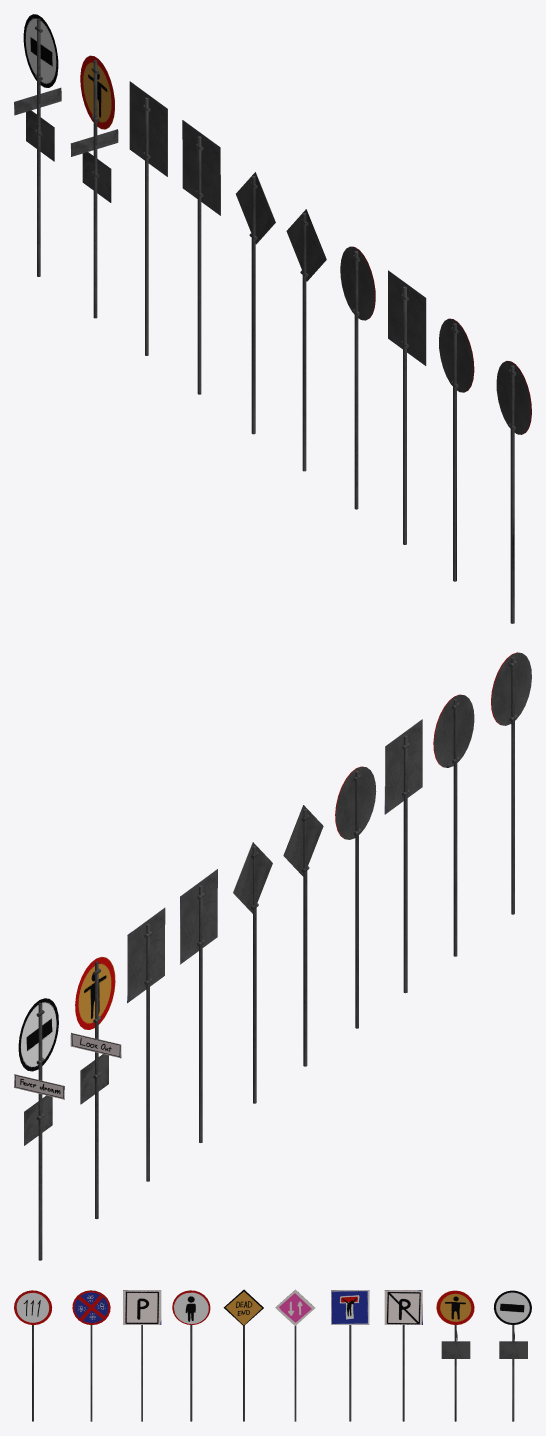
The model's file is signs.fbx.
The picture shows the model from 3 angles, top to bottom: view 1: azimuth 30°, elevation 25°; view 2: azimuth 150°, elevation 25°; view 3: azimuth 270°, elevation 25°; orthographic projection. The views are drawn at different scales.
Visible parts, largest first — view 1: group15_pasted__group9_pasted__pasted__group6_pasted__pasted, pasted__group15_pasted__group9_pasted__pasted__group6_pasted, pasted__pasted__pPlane1, pasted__pasted__pasted__pPlane1, pasted__pasted__pasted__pasted__pPlane1, pDisc2, pasted__pasted__pasted__pDisc2, pasted__pasted__pDisc2, group6_pasted__pCylinder2, pasted__group6_pasted__pCylinder2; view 2: pasted__group15_pasted__group9_pasted__pasted__group6_pasted, group15_pasted__group9_pasted__pasted__group6_pasted__pasted, pasted__pasted__pasted__pasted__pPlane1, pasted__pasted__pasted__pPlane1, pasted__pasted__pPlane1, pasted__pasted__pDisc2, pasted__pasted__pasted__pDisc2, pDisc2, pasted__group6_pasted__pCylinder2, group6_pasted__pCylinder2; view 3: group15_pasted__group9_pasted__pasted__group6_pasted__pasted, pasted__group15_pasted__group9_pasted__pasted__group6_pasted, pasted__pasted__pPlane1, pasted__pasted__pasted__pPlane1, pasted__pasted__pasted__pasted__pPlane1, pDisc2, pasted__pasted__pDisc2, pasted__pasted__pasted__pDisc2, group6_pasted__pCylinder2, pasted__group6_pasted__pCylinder2.
Part boxes in pixels (x1,y1,x2,y2): group15_pasted__group9_pasted__pasted__group6_pasted__pasted: [70, 55, 118, 318]; pasted__group15_pasted__group9_pasted__pasted__group6_pasted: [14, 14, 61, 276]; pasted__pasted__pPlane1: [182, 120, 220, 394]; pasted__pasted__pasted__pPlane1: [129, 81, 167, 355]; pasted__pasted__pasted__pasted__pPlane1: [388, 270, 426, 544]; pDisc2: [340, 246, 375, 509]; pasted__pasted__pasted__pDisc2: [496, 361, 531, 623]; pasted__pasted__pDisc2: [439, 318, 474, 581]; group6_pasted__pCylinder2: [236, 172, 275, 434]; pasted__group6_pasted__pCylinder2: [286, 209, 326, 471]; pasted__group15_pasted__group9_pasted__pasted__group6_pasted: [14, 998, 64, 1260]; group15_pasted__group9_pasted__pasted__group6_pasted__pasted: [70, 956, 121, 1218]; pasted__pasted__pasted__pasted__pPlane1: [384, 719, 422, 993]; pasted__pasted__pasted__pPlane1: [127, 907, 165, 1181]; pasted__pasted__pPlane1: [180, 869, 217, 1142]; pasted__pasted__pDisc2: [433, 694, 474, 956]; pasted__pasted__pasted__pDisc2: [491, 652, 531, 914]; pDisc2: [335, 766, 376, 1028]; pasted__group6_pasted__pCylinder2: [283, 805, 323, 1066]; group6_pasted__pCylinder2: [233, 842, 272, 1103]; group15_pasted__group9_pasted__pasted__group6_pasted__pasted: [436, 1290, 474, 1421]; pasted__group15_pasted__group9_pasted__pasted__group6_pasted: [493, 1290, 531, 1421]; pasted__pasted__pPlane1: [331, 1290, 369, 1421]; pasted__pasted__pasted__pPlane1: [384, 1290, 422, 1421]; pasted__pasted__pasted__pasted__pPlane1: [123, 1290, 161, 1421]; pDisc2: [172, 1290, 210, 1421]; pasted__pasted__pDisc2: [72, 1290, 110, 1421]; pasted__pasted__pasted__pDisc2: [14, 1290, 52, 1421]; group6_pasted__pCylinder2: [275, 1289, 315, 1421]; pasted__group6_pasted__pCylinder2: [223, 1289, 263, 1421].
Size of the model in its own units: 0.3013 by 1.53 by 5.41.
